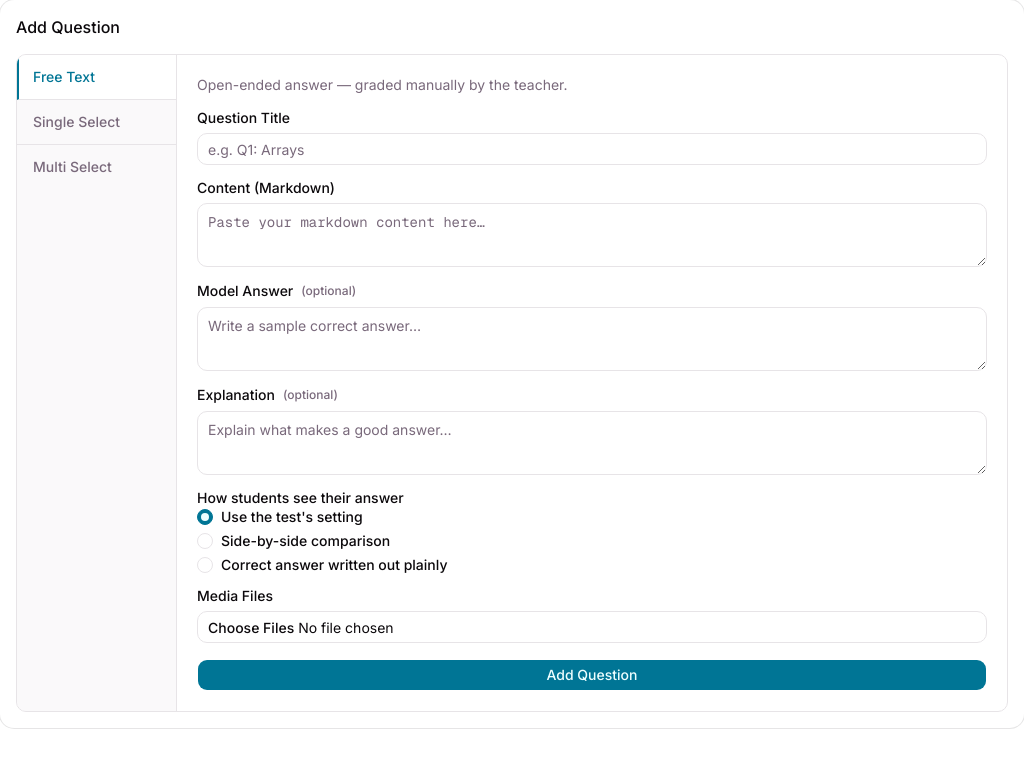
Scenario: Feature: Add Pool Question Form › reveals the MC options builder when a select type is chosen
The image size is (1024, 768).
Click the button "Single Select".
click(96, 122)  # box [17, 100, 176, 145]
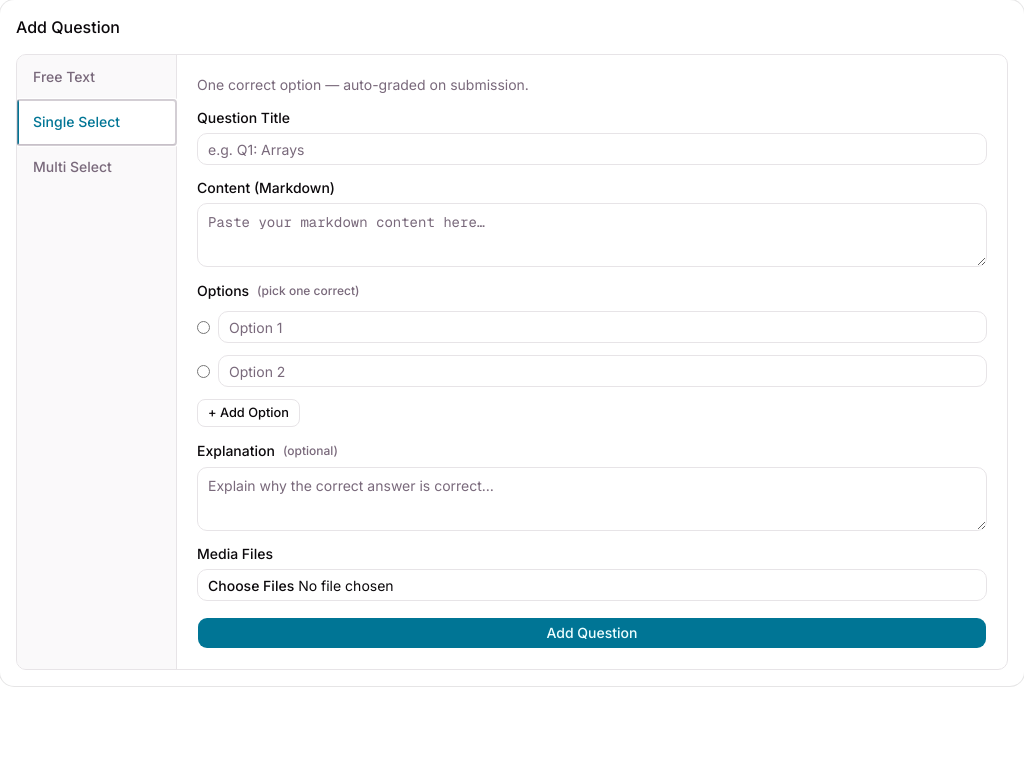
expect the field with placeholder "Option 1" is shown: met, box [218, 311, 987, 343]
expect the field with placeholder "Option 2" is shown: met, box [218, 355, 987, 387]
